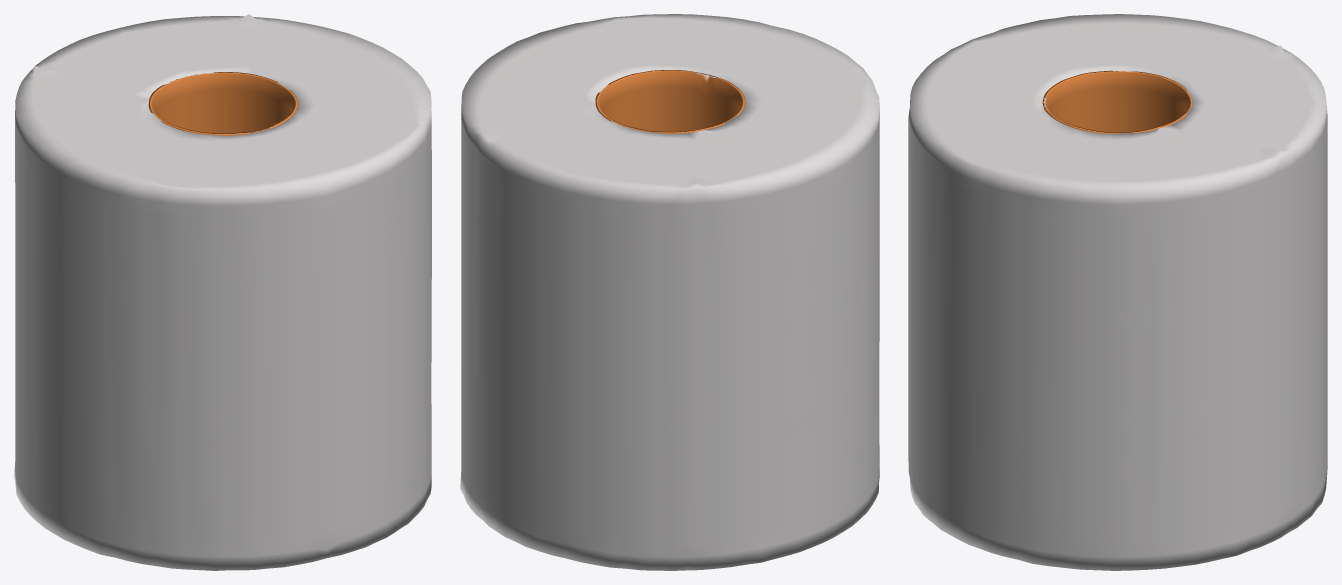
The model's file is rol.gltf.
3 views of the same model, side by side, from view 1: azimuth 30°, elevation 25°; view 2: azimuth 150°, elevation 25°; view 3: azimuth 270°, elevation 25° (orthographic).
Parts seen in each view (by area): view 1: Cylinder, Cylinder.001; view 2: Cylinder, Cylinder.001; view 3: Cylinder, Cylinder.001.
Boxes of the visible parts, x1=… form: Cylinder: x1=14, y1=14, x2=431, y2=570; Cylinder.001: x1=148, y1=72, x2=298, y2=135; Cylinder: x1=460, y1=14, x2=879, y2=570; Cylinder.001: x1=595, y1=70, x2=745, y2=133; Cylinder: x1=908, y1=14, x2=1327, y2=570; Cylinder.001: x1=1042, y1=70, x2=1192, y2=133.
Bounding box in the file's own units: 0.4 × 0.4066 × 0.4001.
